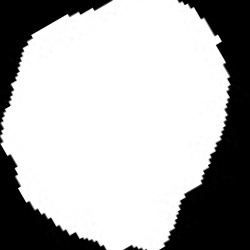spot: (1, 3, 231, 248)
